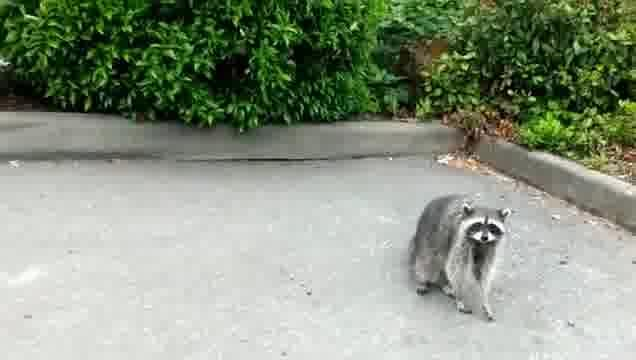raccoon: (406, 193, 512, 324)
